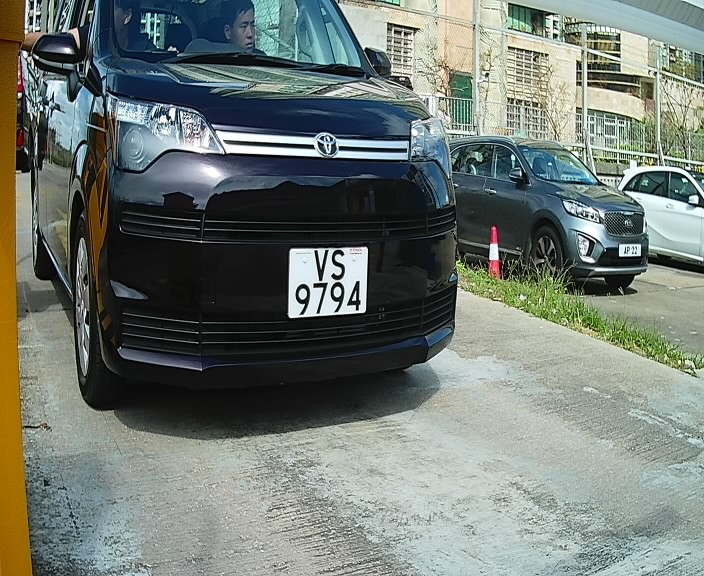Car: (8, 2, 488, 442)
License Plate: (283, 235, 376, 332)
